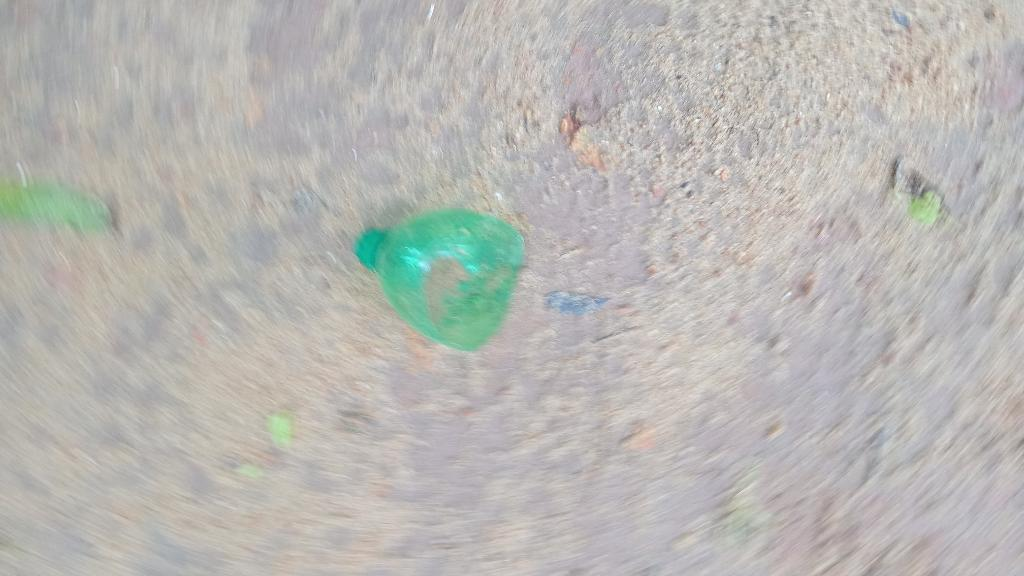garbage: (342, 192, 547, 363)
